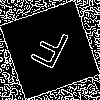F: (25, 25, 72, 79)
